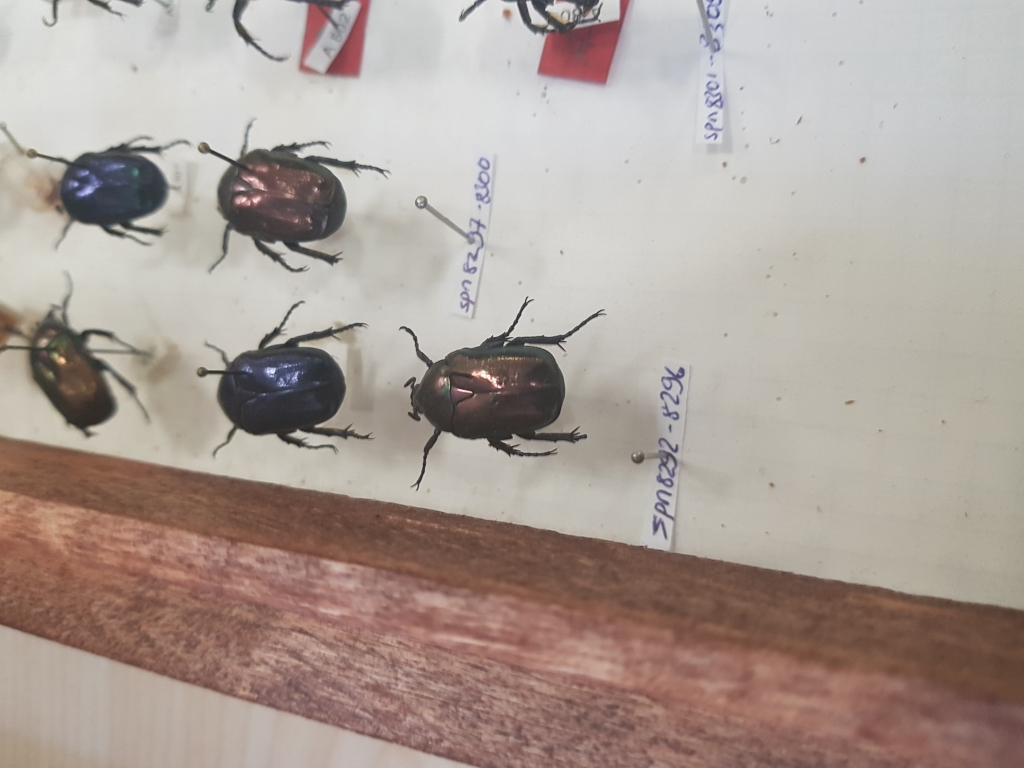Protaetia_besucheti: (381, 287, 616, 499), (191, 293, 382, 485)
